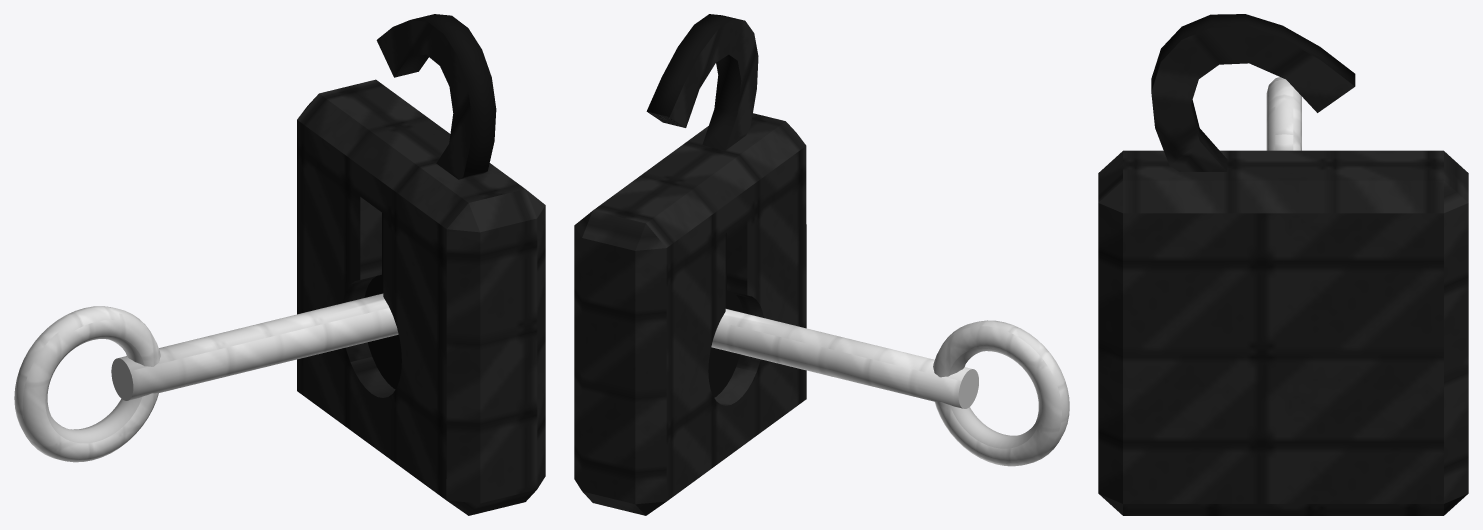
The model's file is Unlocked lock.fbx.
3 views of the same model, side by side, from view 1: azimuth 30°, elevation 25°; view 2: azimuth 150°, elevation 25°; view 3: azimuth 270°, elevation 25° (orthographic). The views are drawn at different scales.
Visible parts, largest first — view 1: Cube, Cylinder.001; view 2: Cube, Cylinder.001; view 3: Cube, Cylinder.001.
Part boxes in pixels (bbox=[...]): Cube: bbox=[297, 14, 545, 515]; Cylinder.001: bbox=[14, 293, 398, 462]; Cube: bbox=[574, 14, 806, 515]; Cylinder.001: bbox=[711, 309, 1069, 466]; Cube: bbox=[1098, 14, 1468, 515]; Cylinder.001: bbox=[1266, 77, 1301, 150].
Size of the model in its own units: 303 by 287 by 200.
